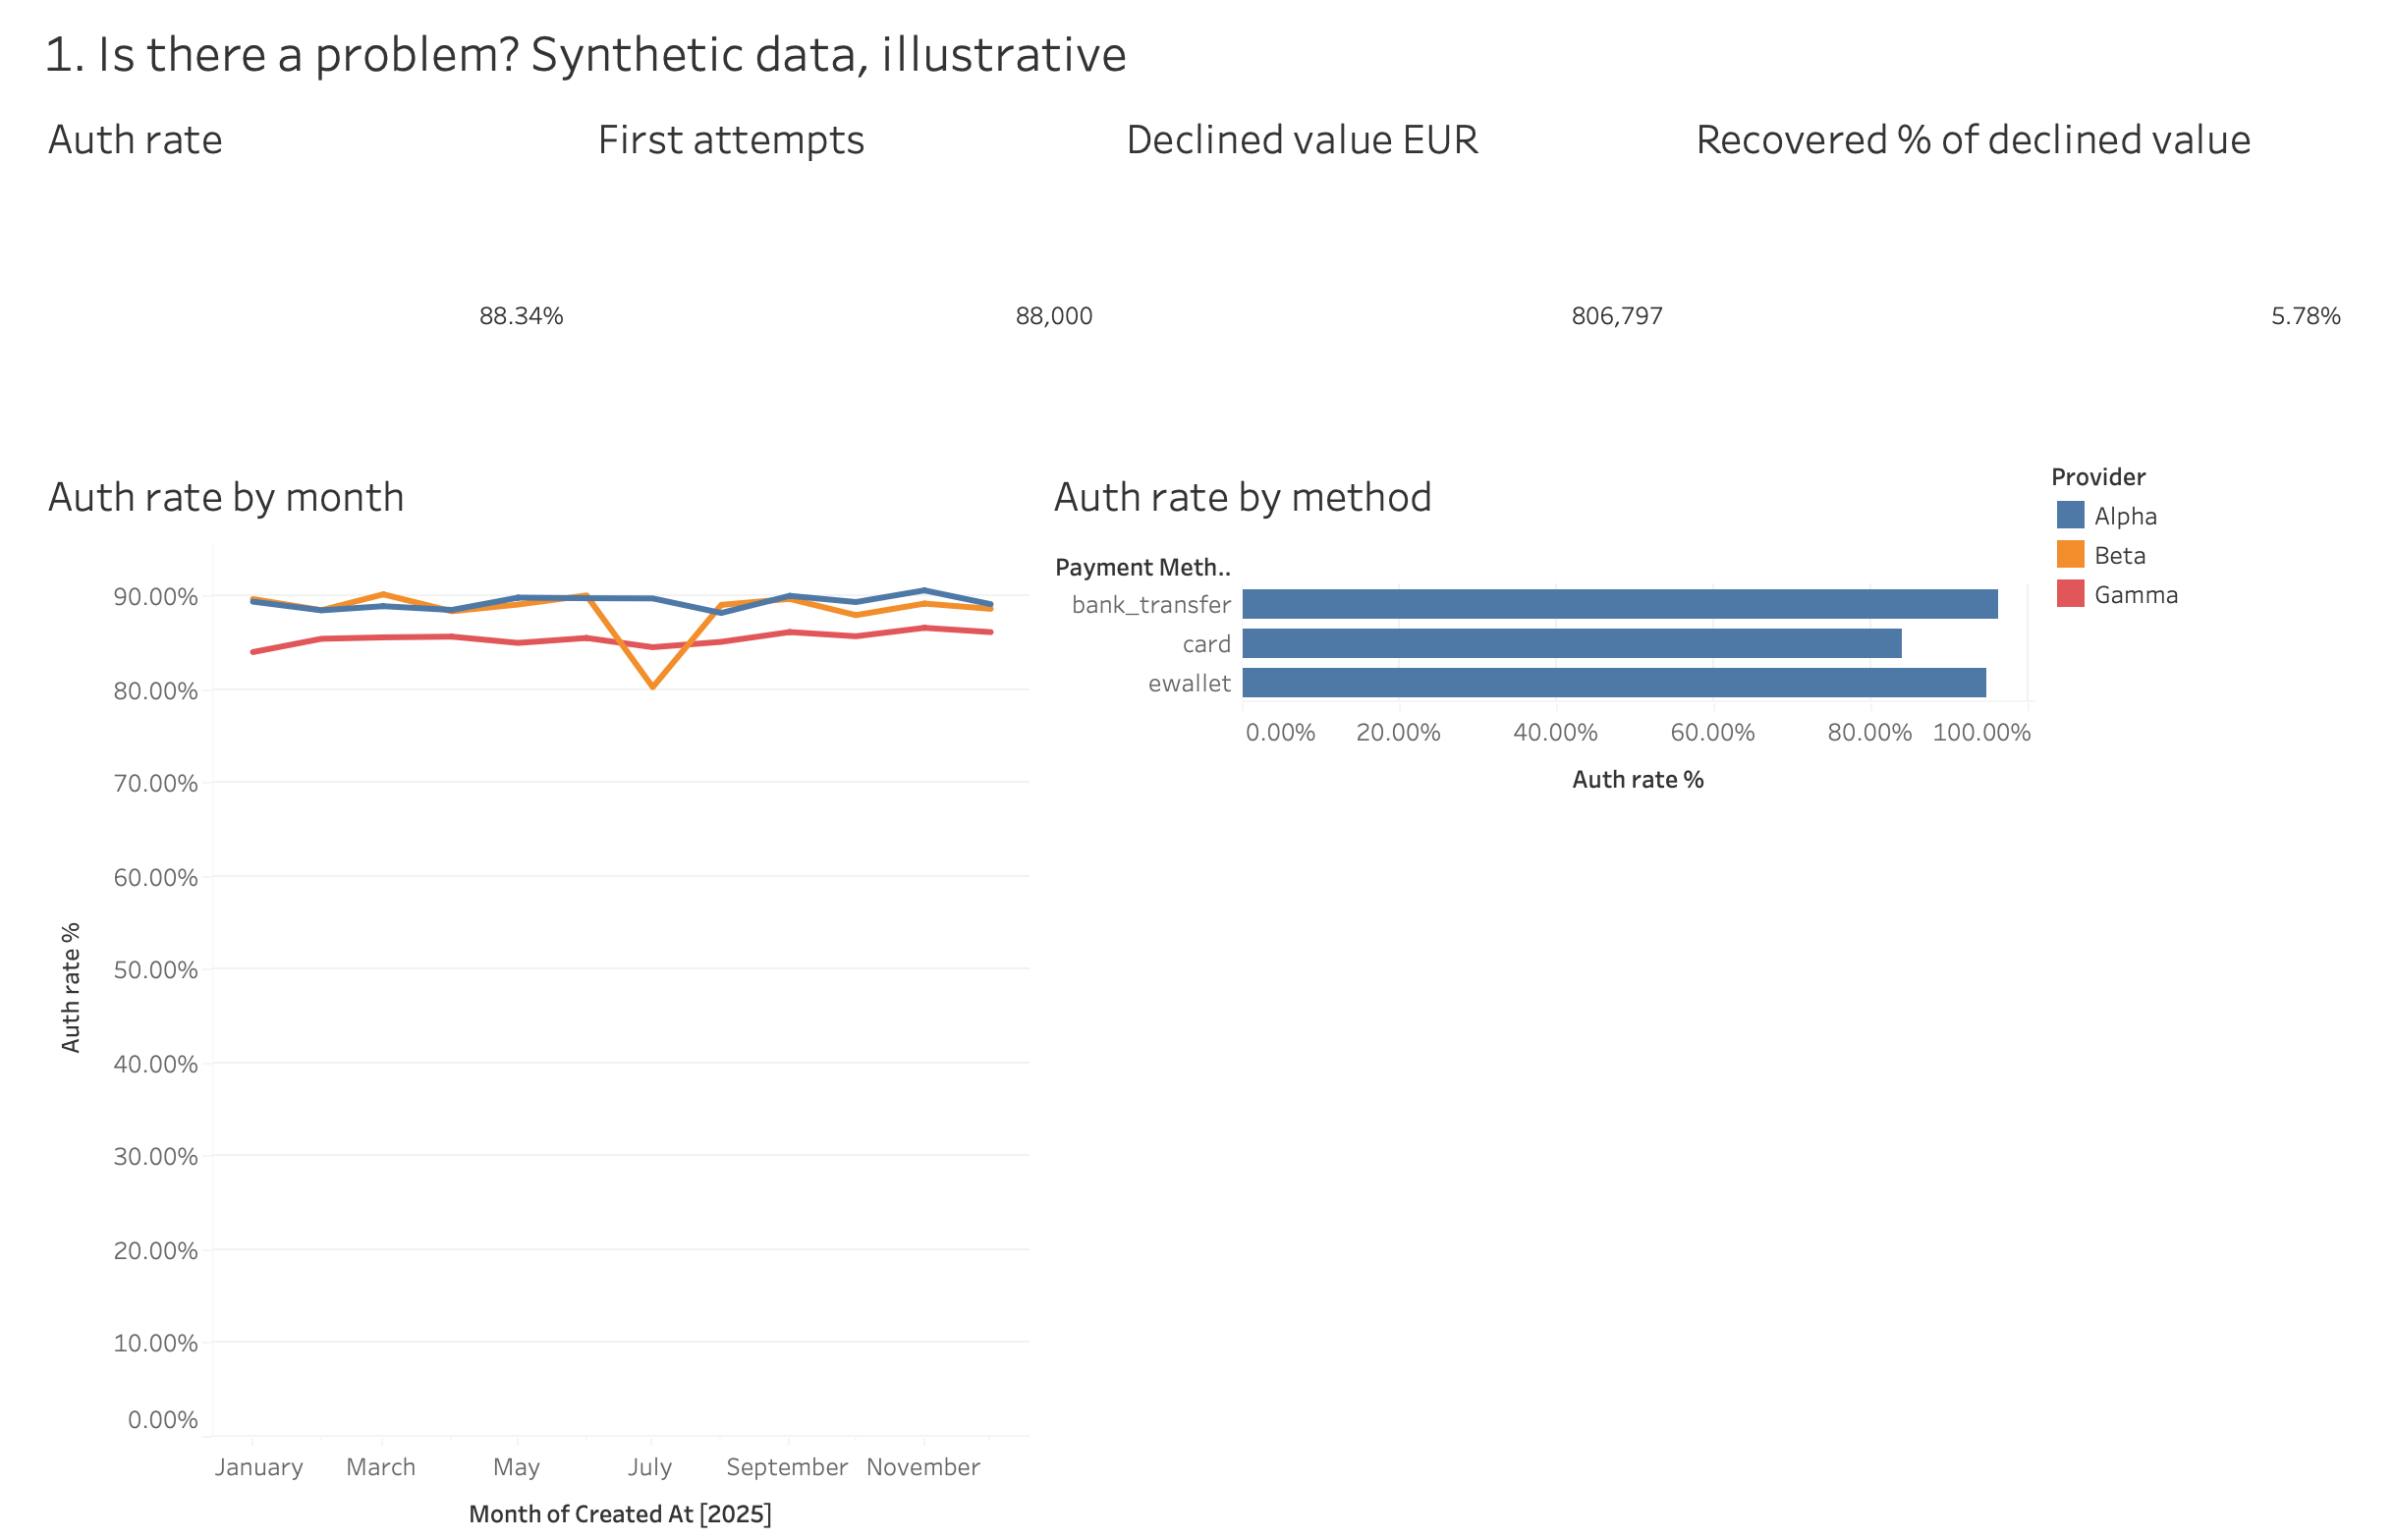

This screenshot's page, from the dashboard's own definition file:
{"tool":"tableau","page":{"name":"1. Is there a problem? Synthetic data, illustrative","canvas":[1200,800],"ordinal":0},"visuals":[{"type":"title","box":[8,8,1184,42]},{"type":"worksheet","title":"Auth rate","mark":"Automatic","box":[8,50,280,181.7]},{"type":"worksheet","title":"First attempts","mark":"Automatic","box":[288,50,269,181.7]},{"type":"worksheet","title":"Declined value EUR","mark":"Automatic","box":[557,50,290,181.7]},{"type":"worksheet","title":"Recovered % of declined value","mark":"Automatic","box":[847,50,345,181.7]},{"type":"worksheet","title":"Auth rate by month","mark":"Automatic","rows":["Calculation_4166794988568579"],"cols":["created_at"],"box":[8,231.7,512,560.3]},{"type":"worksheet","title":"Auth rate by method","mark":"Automatic","rows":["payment_method"],"cols":["Calculation_4166794988568579"],"box":[520,231.7,512,560.3]},{"type":"legend","title":"Auth rate by month","param":"[federated.0o5fr041ixtg4312150rq0giquz7].[none:provider:nk]","box":[1032,231.7,160,86]}]}

Visuals, with their boxes on the page's 1200x800 design canvas (x1, y1, x2, y2). These are canvas units, not pixel positions in the 2395x1540 screenshot, which may show the page scaled, cropped or inside an application window:
title: <box>8,8,1192,50</box>
"Auth rate" worksheet: <box>8,50,288,232</box>
"First attempts" worksheet: <box>288,50,557,232</box>
"Declined value EUR" worksheet: <box>557,50,847,232</box>
"Recovered % of declined value" worksheet: <box>847,50,1192,232</box>
"Auth rate by month" worksheet: <box>8,232,520,792</box>
"Auth rate by method" worksheet: <box>520,232,1032,792</box>
"Auth rate by month" legend: <box>1032,232,1192,318</box>
